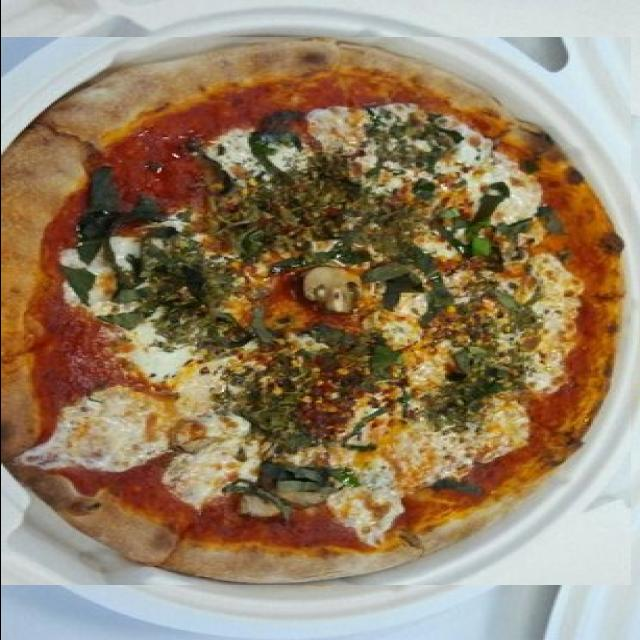pizza: (0, 37, 630, 585)
